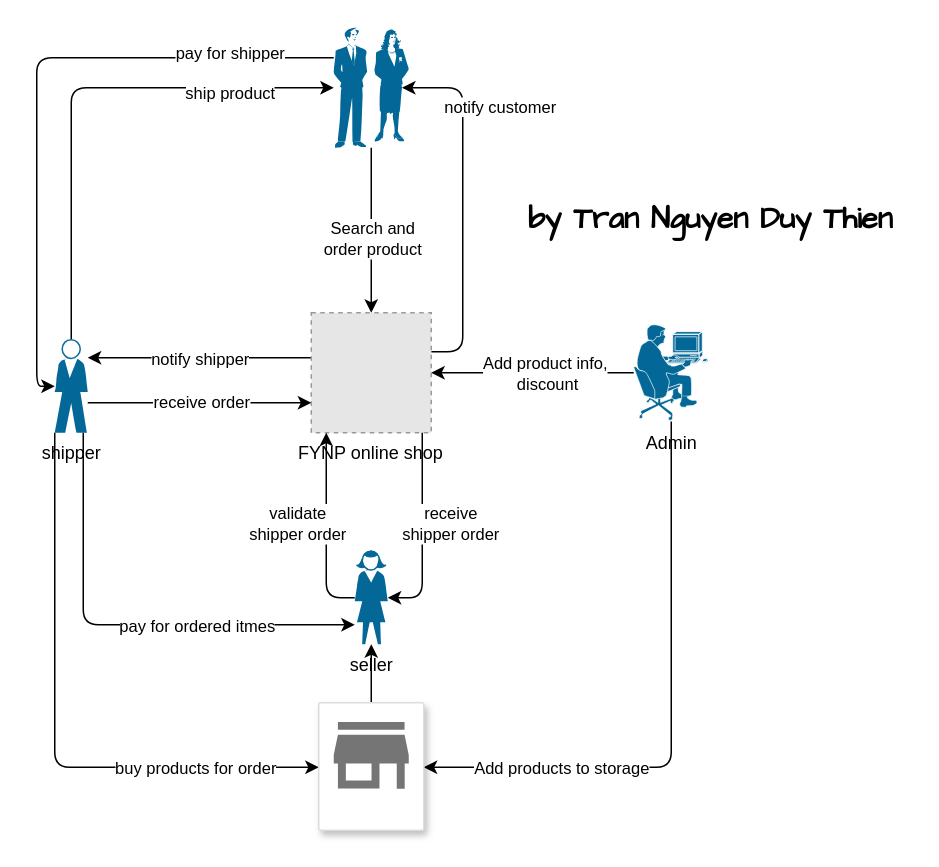
Image size: 939x867. Some labels were removed from this diagram. Grey dashed boxes stand in for pictures. Here are the shapes that lost their labels. From the top down, the centre of each, then its label:
At point 371,87: "customer".
At point 372,768: "Retail".
